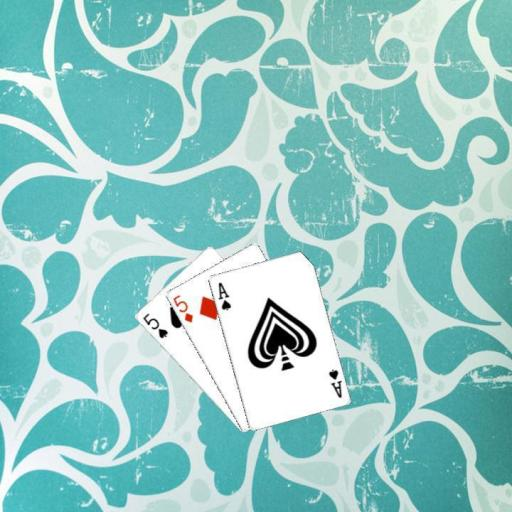card-corner: (140, 310, 170, 340), (169, 292, 194, 324), (325, 366, 343, 400), (215, 279, 232, 311)
